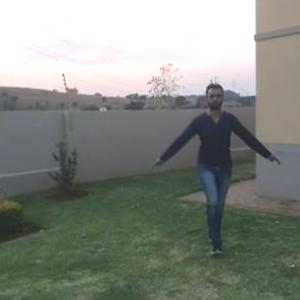land: (156, 88, 260, 220)
